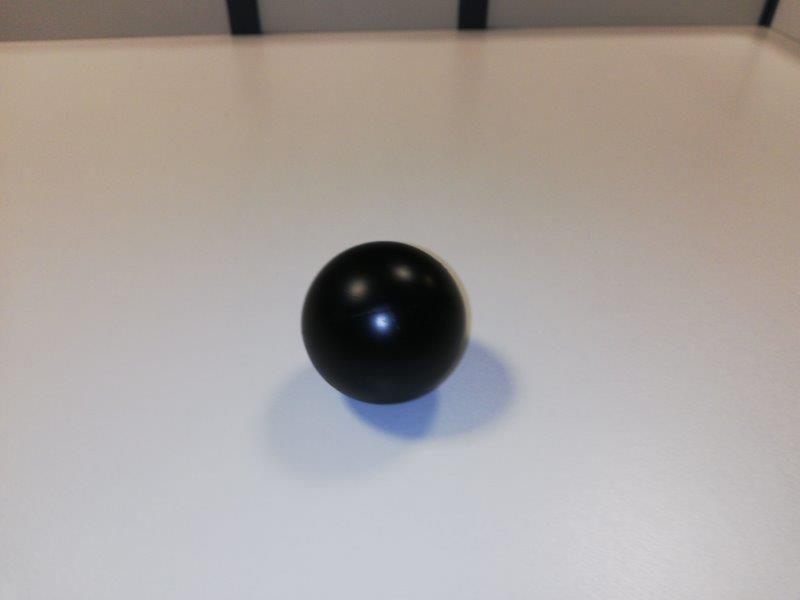nera: (300, 239, 471, 406)
